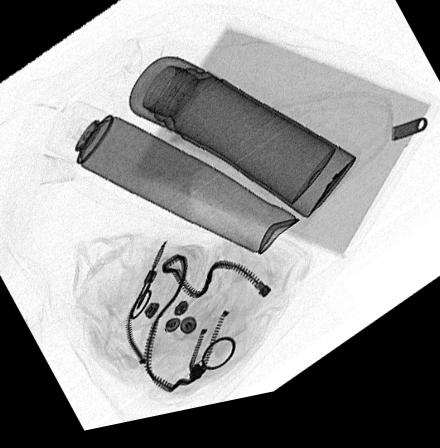Sprayer: (44, 102, 300, 266)
